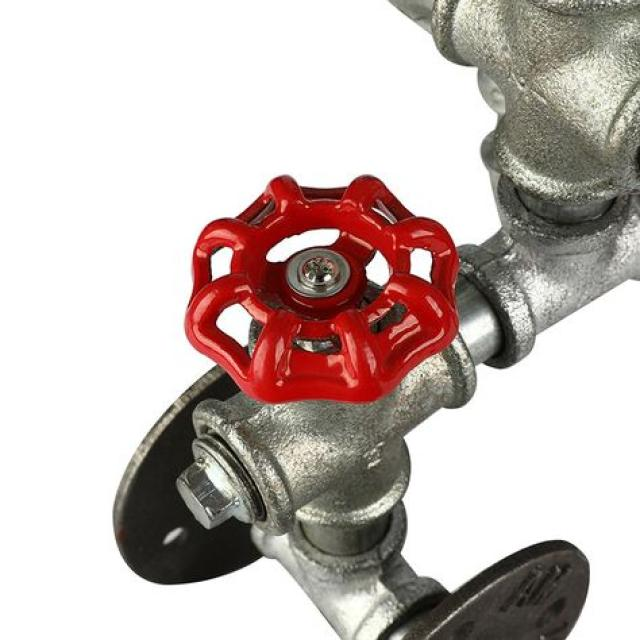Wheel Handle Valve Threaded: (173, 171, 478, 537)
